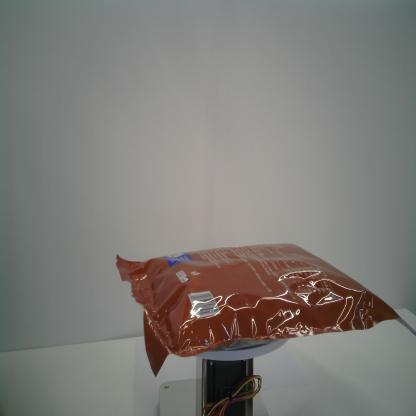Dried Food: (114, 243, 416, 379)
